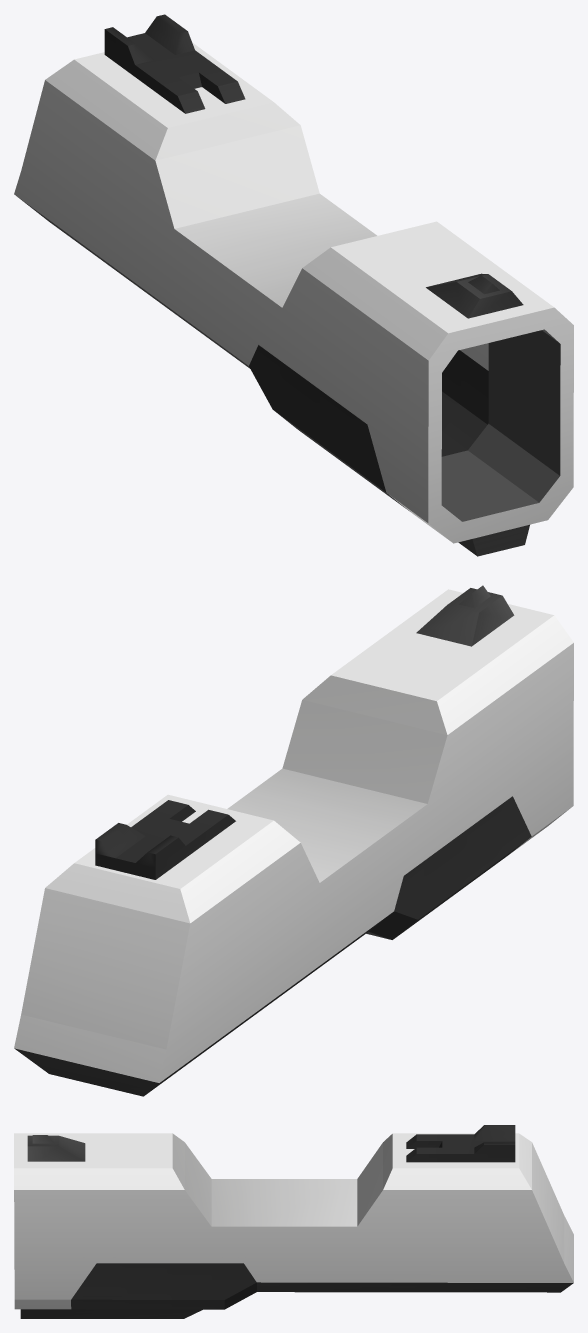
Rendered from PistolSlide_mesh.fbx.
3 renders of one model, top to bottom at view 1: azimuth 30°, elevation 25°; view 2: azimuth 150°, elevation 25°; view 3: azimuth 270°, elevation 25°, orthographic. The views are drawn at different scales.
Parts seen in each view (by area): view 1: PistolSlide_mesh; view 2: PistolSlide_mesh; view 3: PistolSlide_mesh.
Part boxes in pixels (box(x1,y1,x2,y2)): PistolSlide_mesh: box(14, 14, 573, 556); PistolSlide_mesh: box(14, 585, 573, 1096); PistolSlide_mesh: box(14, 1125, 573, 1318).
Bounding box in the file's own units: 3.51 × 6.03 × 17.37.
